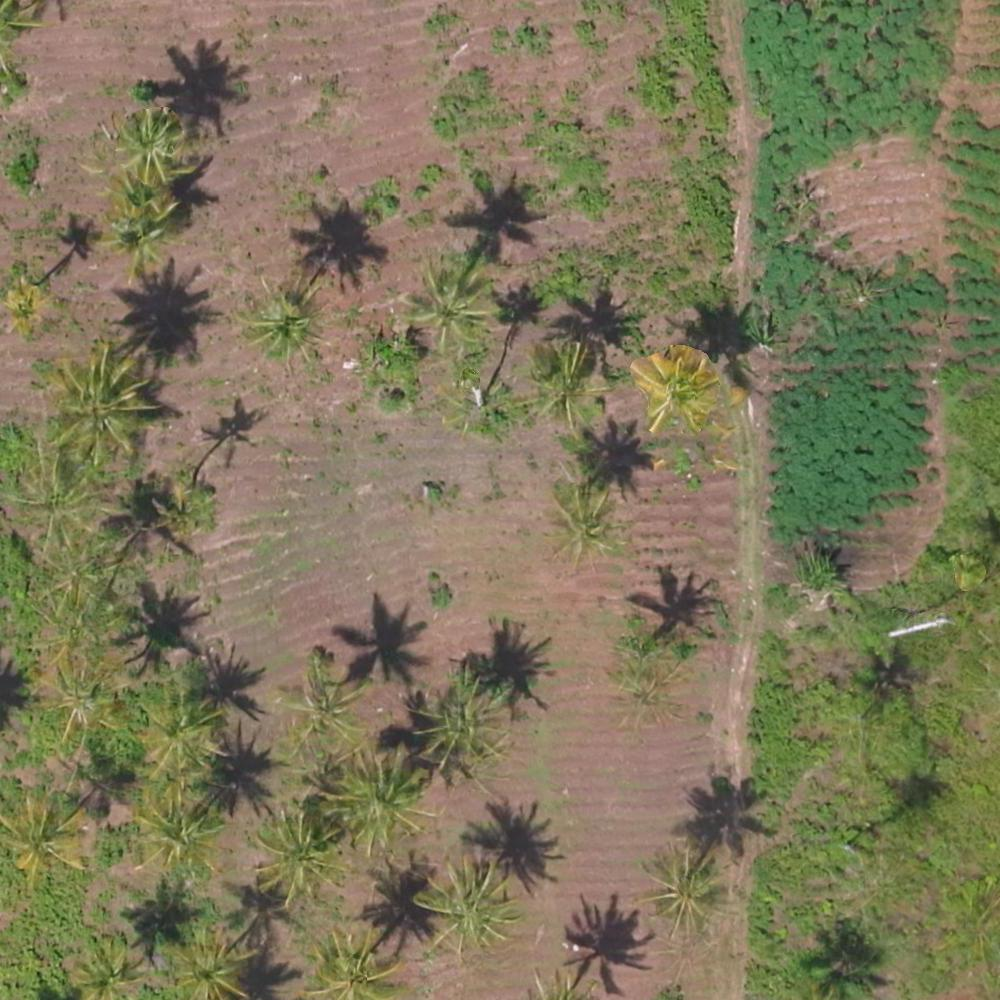Palm: (52, 357, 147, 462), (251, 811, 347, 908), (421, 863, 513, 958), (328, 757, 422, 849), (119, 798, 213, 881), (637, 844, 722, 933), (402, 263, 492, 345), (277, 667, 368, 747), (632, 345, 716, 430), (133, 696, 220, 776), (3, 794, 83, 880), (305, 925, 396, 1000), (416, 681, 499, 760), (236, 282, 315, 364), (547, 481, 625, 564), (112, 104, 193, 180), (528, 340, 603, 421), (93, 199, 175, 272), (175, 931, 248, 1000), (70, 935, 146, 1000)
